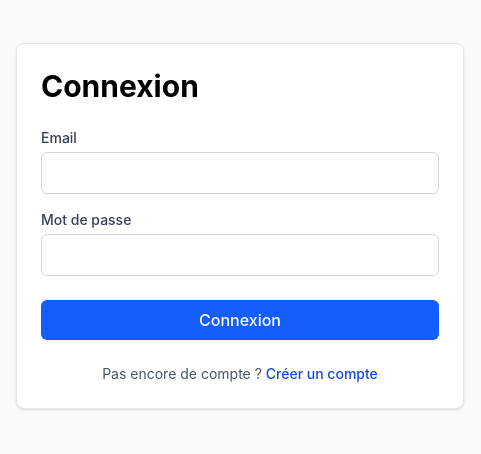
Scenario: LoginPage › shows a stable generic message for another error
This screenshot has width=481, height=454.
Step 1. Type "  Ada@Example.com  " into the field labelled "Email" → (240, 173), box [41,152,439,194]
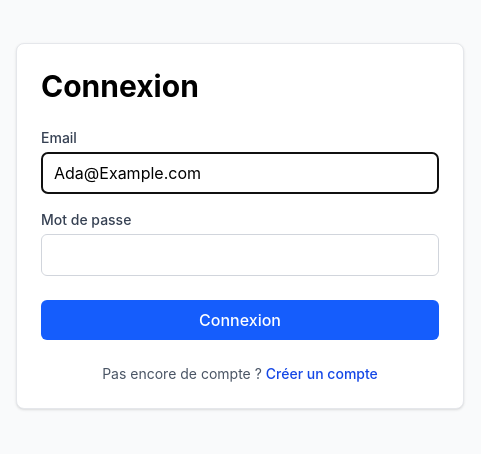
Step 2. Type "secret-password" into the password field labelled "Mot de passe" → (240, 255), box [41,234,439,276]
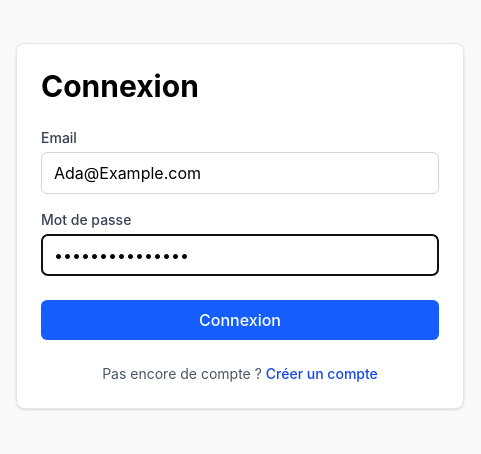
Step 3. Click the button "Connexion" → (240, 320), box [41,300,439,340]
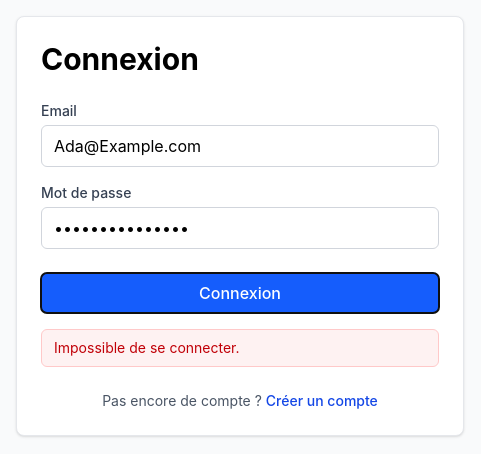
expect the message reads "Impossible de se connecter.": met, box [54,339,240,356]
